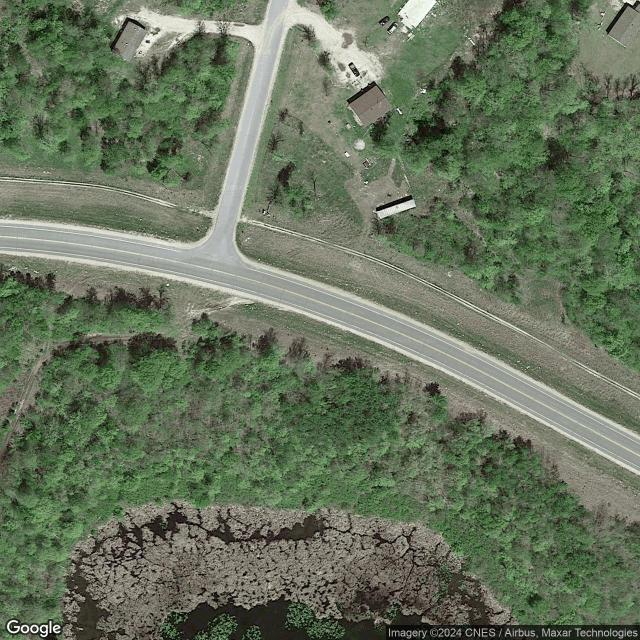Propane: (395, 106, 404, 117)
